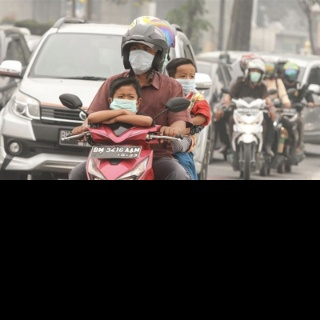with_mask: (127, 44, 155, 75), (109, 91, 137, 113), (175, 71, 196, 96), (248, 68, 261, 84)
